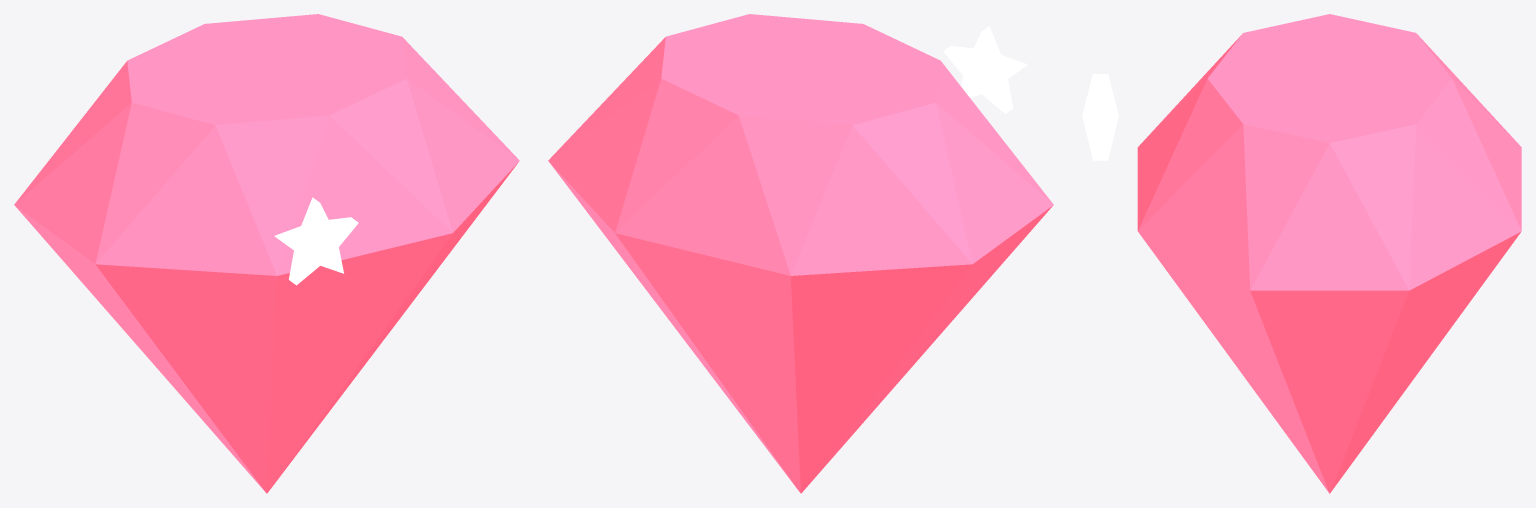
Rendered from treasure_gem.glb.
3 renders of one model, left to right at view 1: azimuth 30°, elevation 25°; view 2: azimuth 150°, elevation 25°; view 3: azimuth 270°, elevation 25°, orthographic. The views are drawn at different scales.
Parts seen in each view (by area): view 1: treasure_gem; view 2: treasure_gem; view 3: treasure_gem.
Part boxes in pixels (x1,y1,x2,y2): treasure_gem: [14, 14, 519, 493]; treasure_gem: [548, 14, 1053, 493]; treasure_gem: [1082, 14, 1521, 493].
Size of the model in its own units: 0.3141 by 0.3 by 0.2876.
